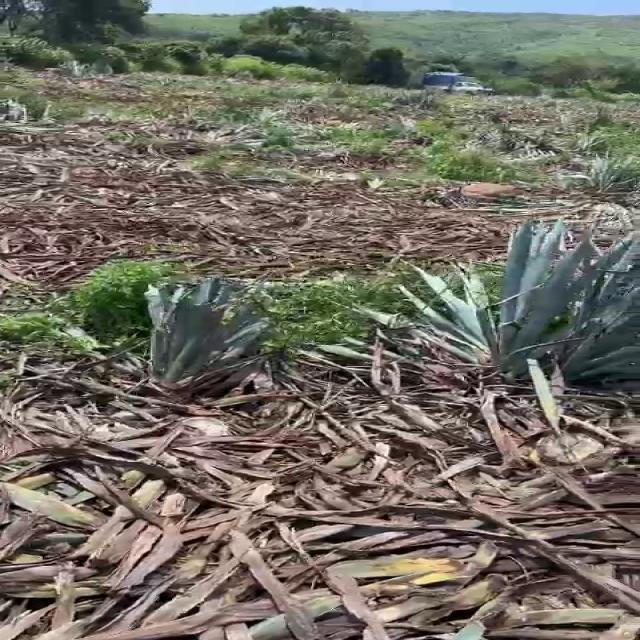agave: (370, 219, 640, 403), (112, 274, 280, 399)
